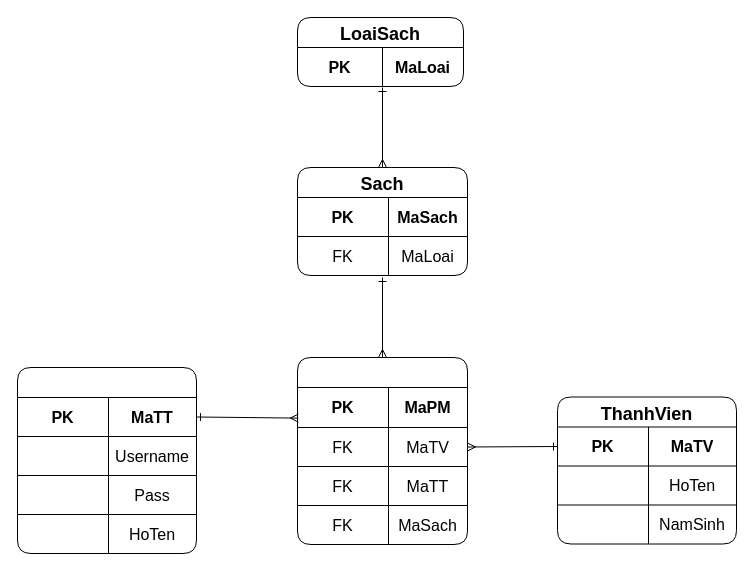
Some shapes in this 754 by 571 pixel diagram are drawn without their labels. The shapes that lost their labels are listed below. From the top down, each one's box as (x1, y1, x2, y2) in pixels, then its label:
(16, 366, 196, 554): ThuThu
(296, 356, 468, 544): PhieuMuon
